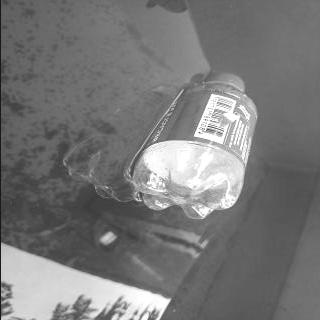bottle: (126, 70, 262, 221)
